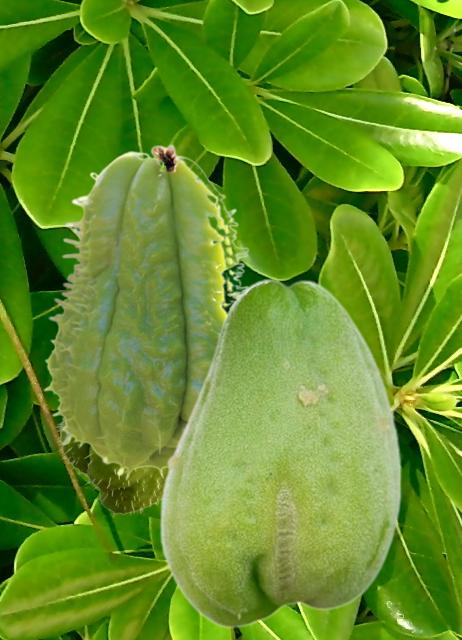sayote: (158, 277, 401, 627), (42, 143, 251, 480), (55, 418, 166, 516)
